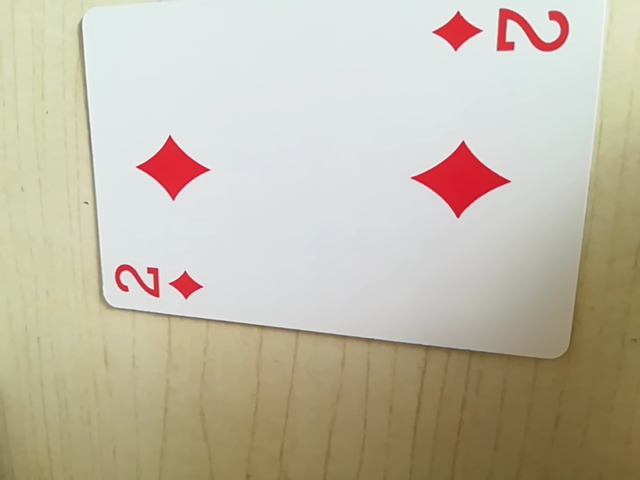fk 2: (424, 4, 574, 59), (112, 254, 211, 309)
